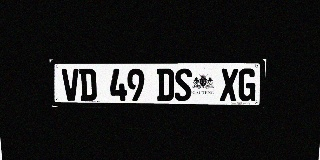4: (109, 69, 127, 101)
9: (127, 69, 144, 101)
D: (79, 69, 97, 101), (157, 68, 174, 101)
G: (238, 68, 257, 101)
S: (174, 68, 192, 101)
V: (61, 69, 80, 101)
X: (220, 68, 238, 101)
